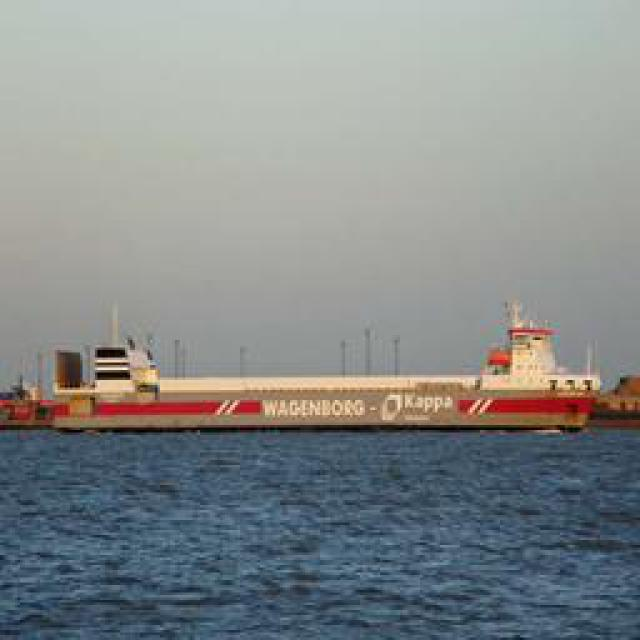Ship: (21, 317, 606, 437)
